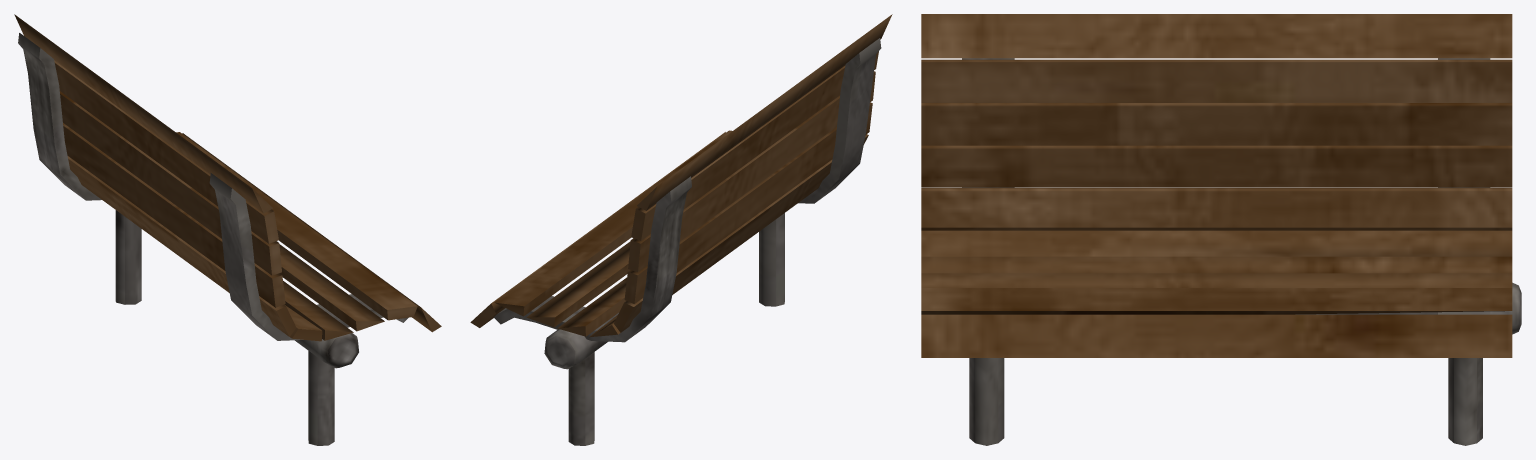
Rendered from bench.gltf.
The picture shows the model from 3 angles, left to right: view 1: azimuth 30°, elevation 25°; view 2: azimuth 150°, elevation 25°; view 3: azimuth 270°, elevation 25°; orthographic projection. The views are drawn at different scales.
Visible parts, largest first — view 1: bench; view 2: bench; view 3: bench.
Part boxes in pixels (bbox=[...]): bench: bbox=[14, 14, 441, 445]; bench: bbox=[470, 14, 892, 445]; bench: bbox=[921, 14, 1521, 445].
Bounding box in the file's own units: 0.5871 × 0.85 × 1.26.
Materials: 2 (2 with a texture image).
